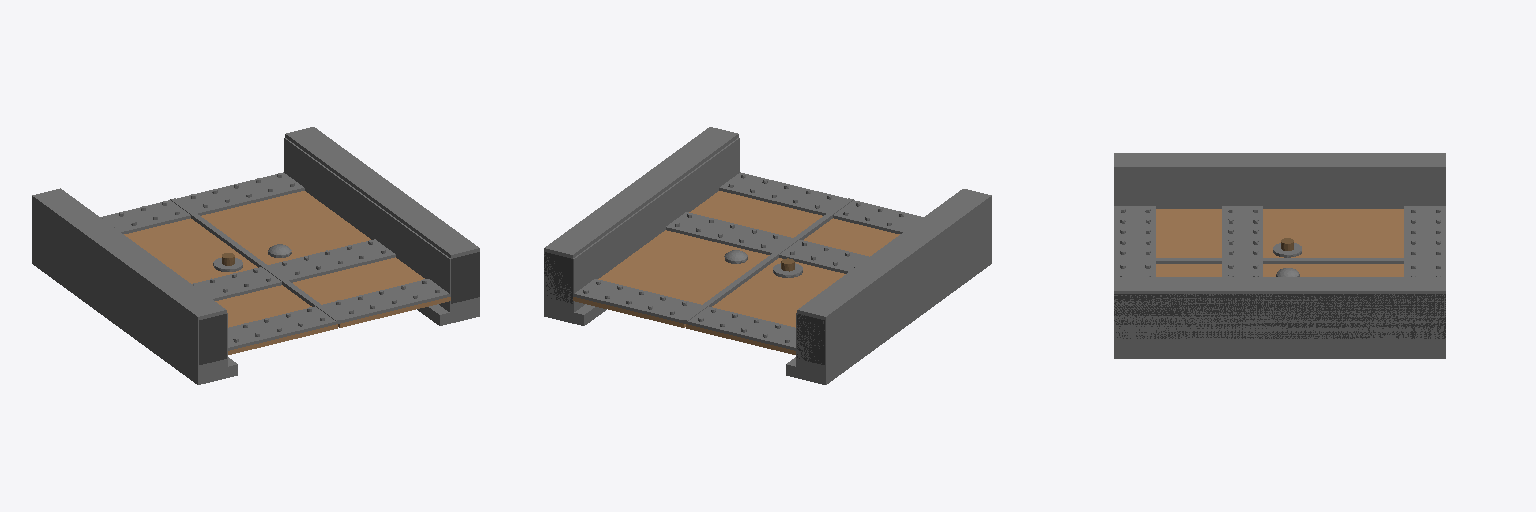
File: double_door_decimate.obj
3 renders of one model, left to right at view 1: azimuth 30°, elevation 25°; view 2: azimuth 150°, elevation 25°; view 3: azimuth 270°, elevation 25°, orthographic.
Visible parts, largest first — view 1: double_door_test3; view 2: double_door_test3; view 3: double_door_test3.
Part boxes in pixels (x1,y1,x2,y2): double_door_test3: (32,127,479,384); double_door_test3: (544,127,991,384); double_door_test3: (1114,153,1445,358).
Size of the model in its own units: 1.96 by 0.455 by 2.